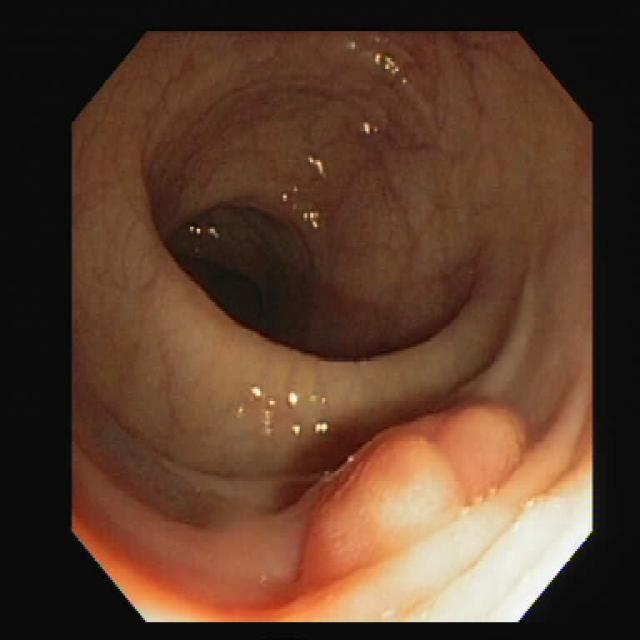tumor: (302, 404, 520, 558)
